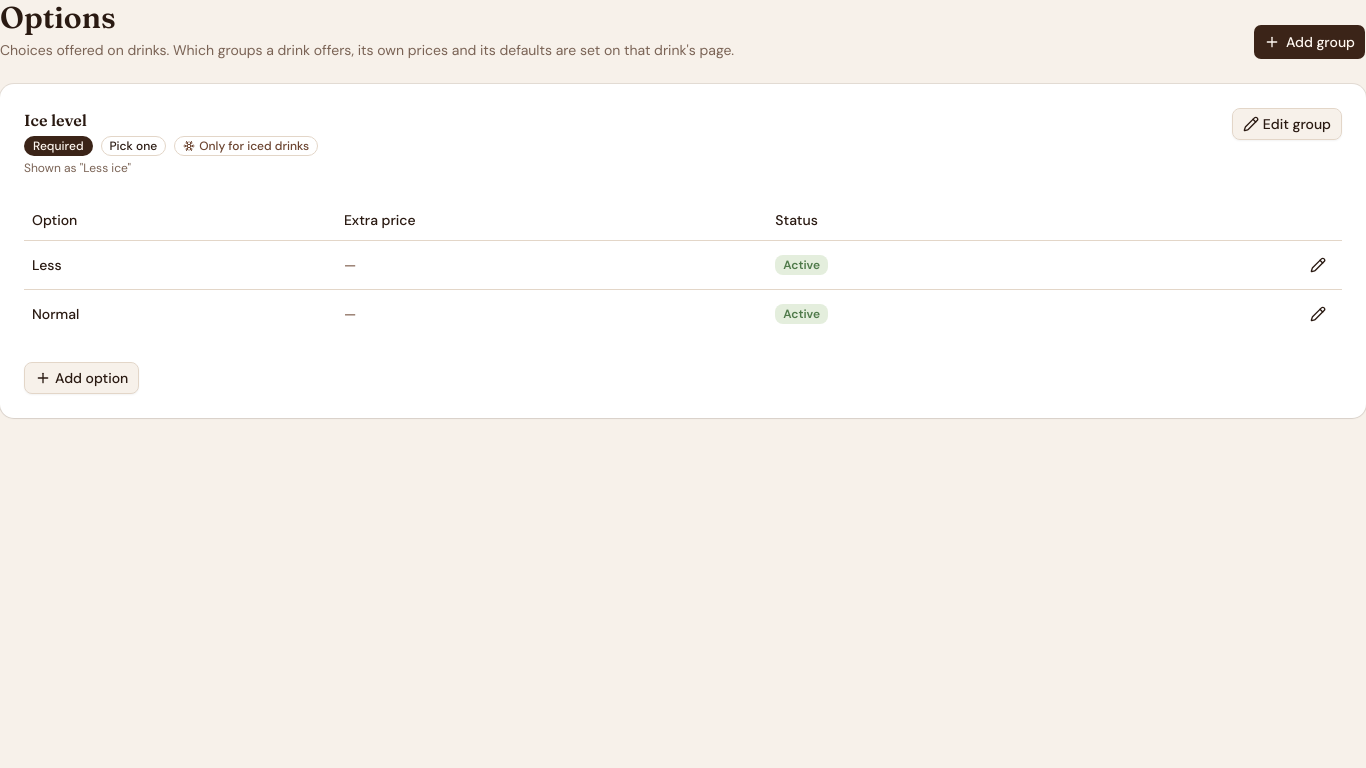
Test: OptionGroupsPage (FR-26) › hides max picks for a single group and shows it once Multiple is picked
This screenshot has width=1366, height=768.
Expected: the text "Ice level" is shown, [24,110,87,130]
What coordinates should you click on to do the following:
click the button "Add group"
I would click on:
 (1309, 42)
Its box is [1253,24,1365,60].
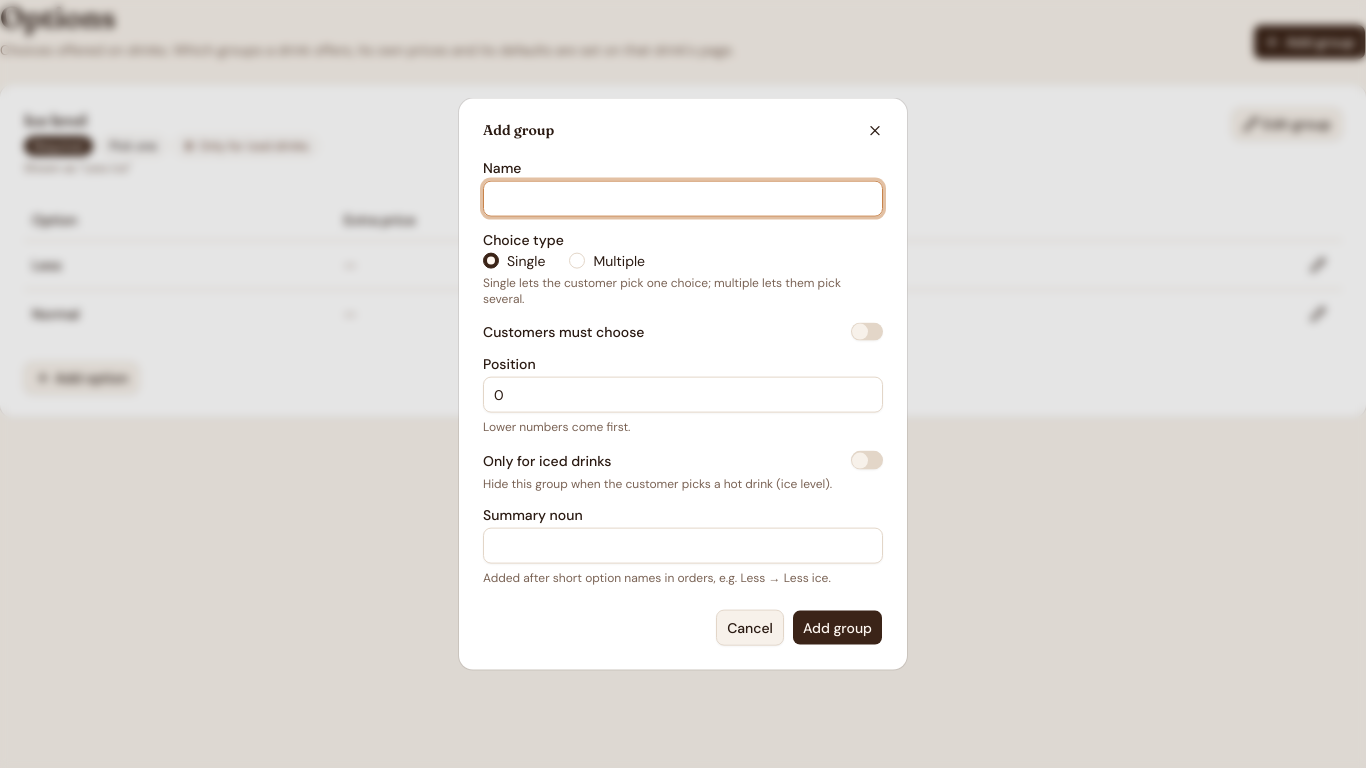
Expected: the field labelled "Max picks" is not shown
What coordinates should you click on to do the following:
click the radio button "Multiple"
I would click on:
 (607, 261)
Its box is [569,253,645,269].
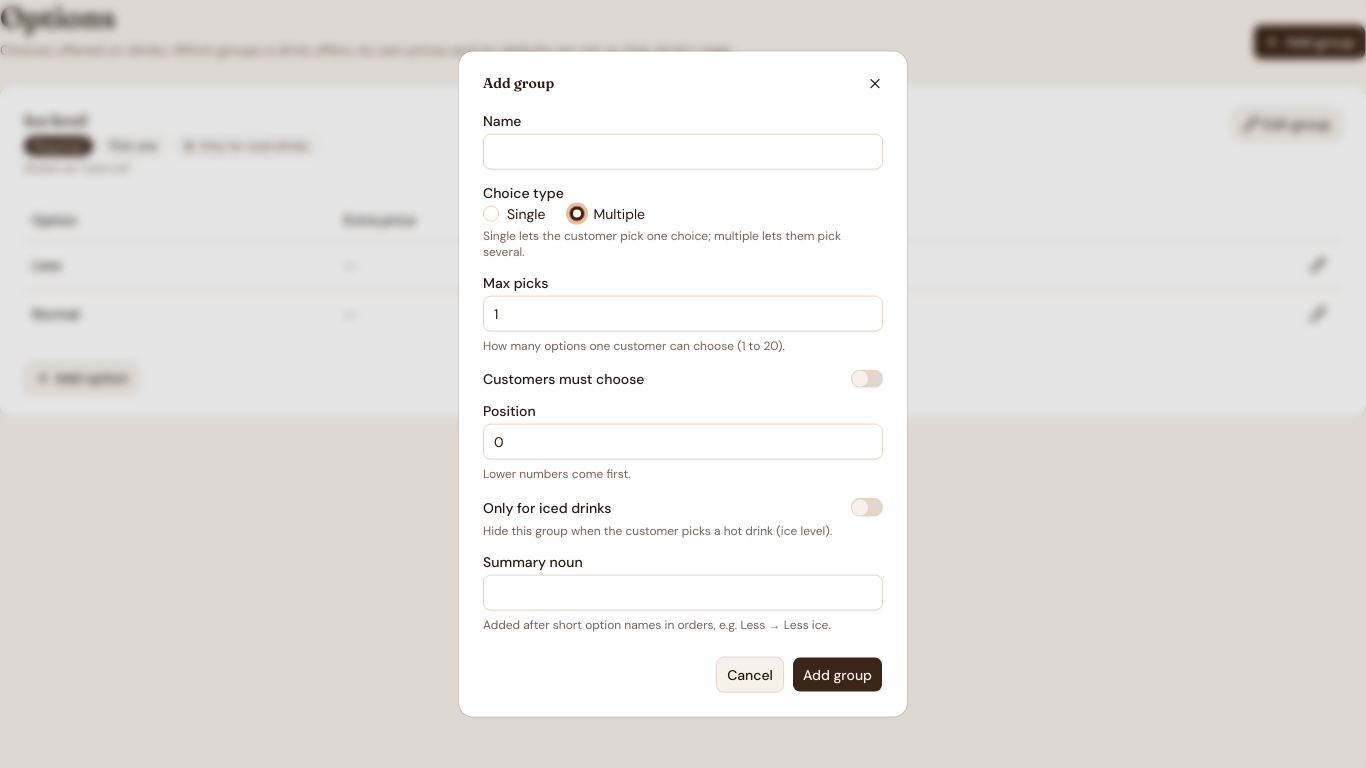
Expected: the number field labelled "Max picks" is shown, [483,296,883,332]
